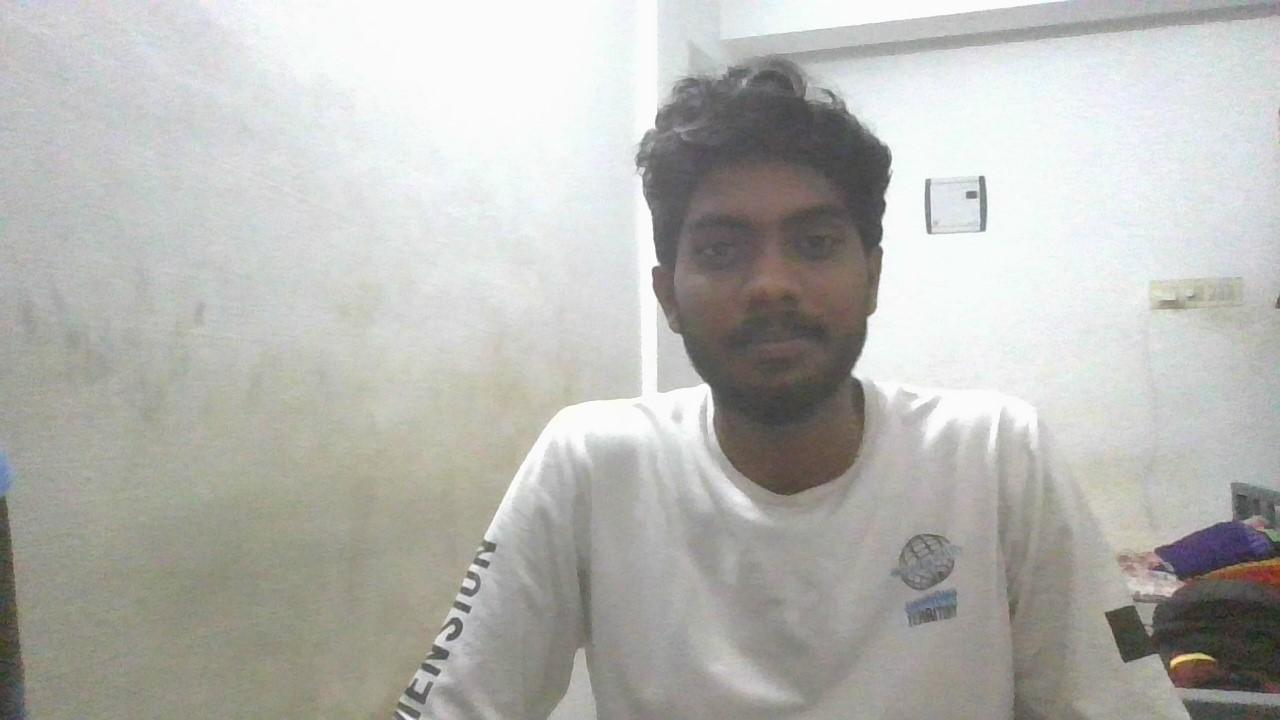nohelmet: (635, 60, 892, 429)
